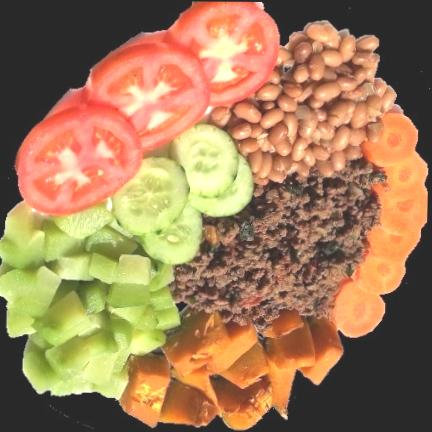beans: (220, 31, 394, 185)
carrot: (334, 114, 428, 338)
cucumber: (112, 126, 253, 265)
green_vegetables: (0, 203, 178, 400)
meat: (171, 158, 380, 331)
tomato: (15, 2, 279, 215)
